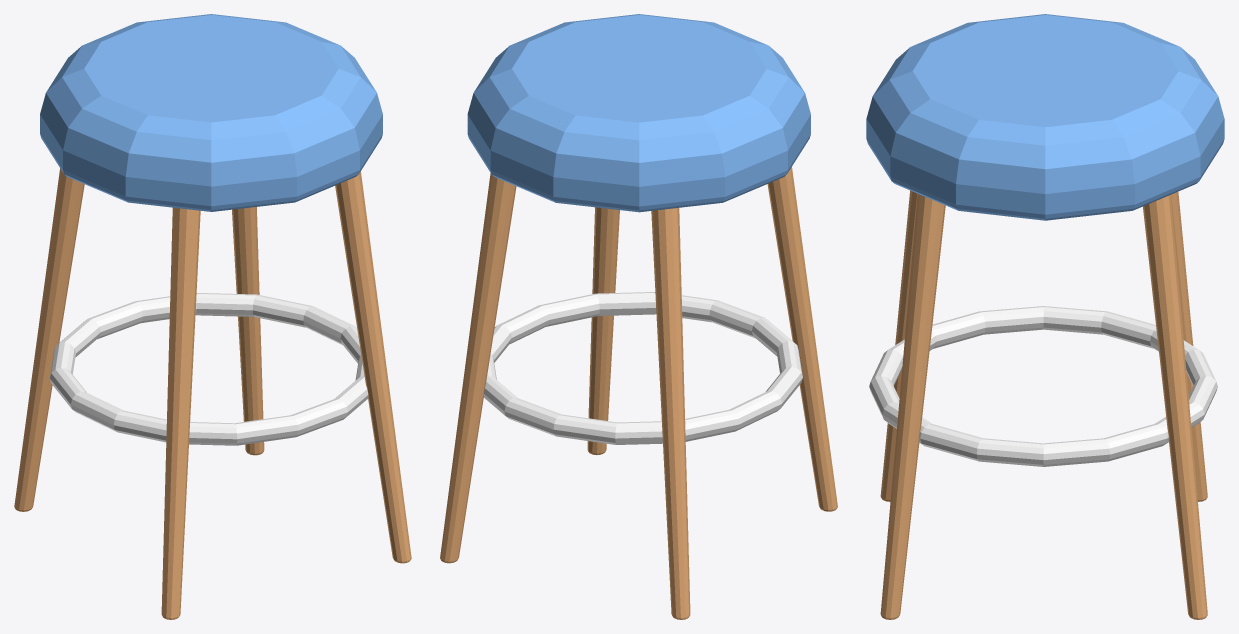
File: Chair_21.fbx
The picture shows the model from 3 angles, left to right: view 1: azimuth 30°, elevation 25°; view 2: azimuth 150°, elevation 25°; view 3: azimuth 270°, elevation 25°; orthographic projection. The views are drawn at different scales.
Visible parts, largest first — view 1: Chair_21; view 2: Chair_21; view 3: Chair_21.
Part boxes in pixels (x1=…): Chair_21: x1=14, y1=14, x2=411, y2=619; Chair_21: x1=440, y1=14, x2=837, y2=619; Chair_21: x1=866, y1=14, x2=1224, y2=619.
Size of the model in its own units: 0.2987 by 0.4476 by 0.2987.
